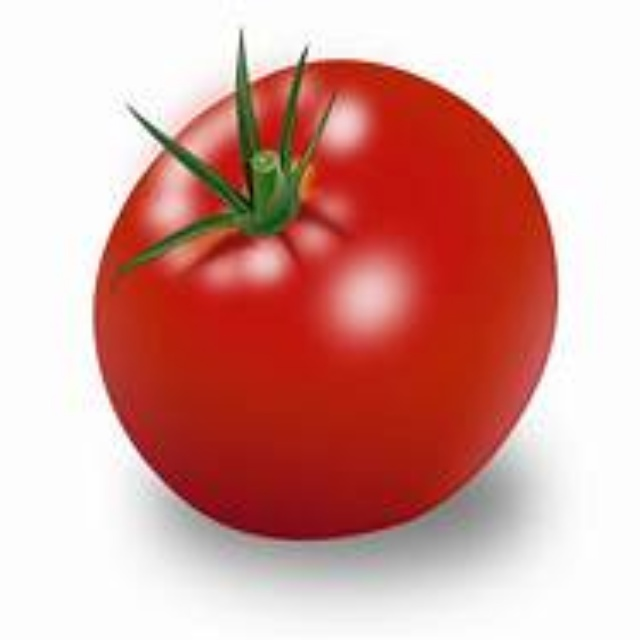tomato: (82, 39, 573, 539)
